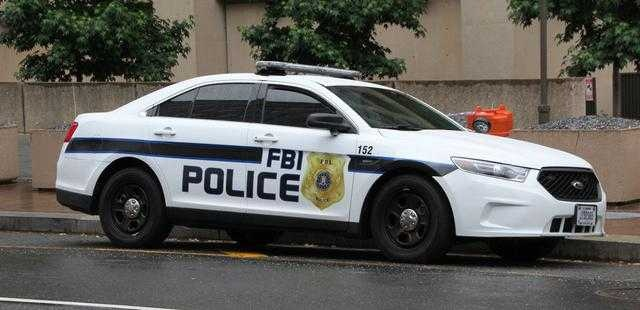Police Car: (54, 29, 618, 262)
